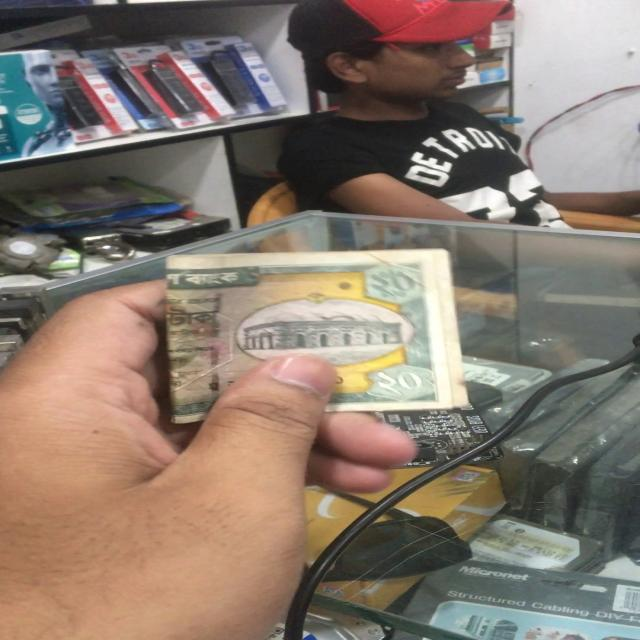Taka: (170, 261, 477, 413)
